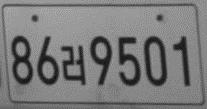0: (143, 35, 167, 86)
1: (172, 35, 191, 86)
5: (117, 36, 140, 86)
6: (36, 35, 59, 85)
8: (10, 35, 34, 85)
9: (89, 35, 112, 86)
러: (60, 44, 86, 86)
